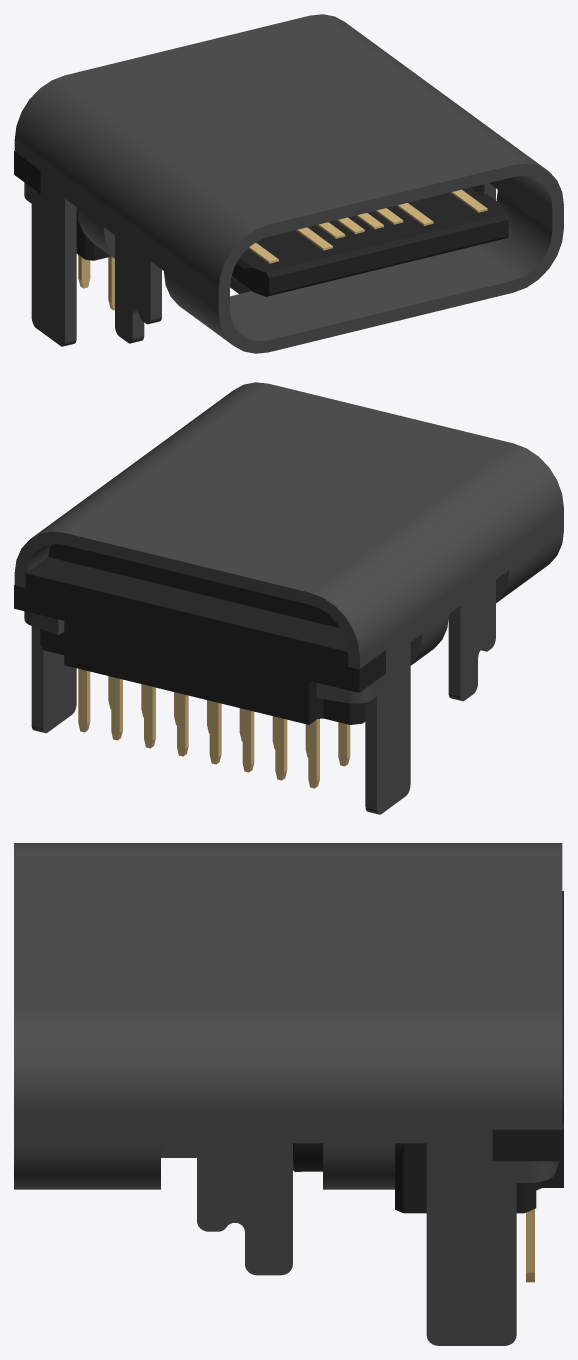
Rendered from USB_C_Receptacle_GCT_USB4085.glb.
3 views of the same model, one above another, from view 1: azimuth 30°, elevation 25°; view 2: azimuth 150°, elevation 25°; view 3: azimuth 270°, elevation 25° (orthographic). The views are drawn at different scales.
Visible parts, largest first — view 1: =>[0:1:1:3]; view 2: =>[0:1:1:3]; view 3: =>[0:1:1:3].
Boxes of the visible parts, x1,y1,x2,y2 form: =>[0:1:1:3]: (14,14,563,353); =>[0:1:1:3]: (14,382,563,814); =>[0:1:1:3]: (14,843,563,1345).
Bounding box in the file's own units: 0.00894 × 0.00556 × 0.00917.
